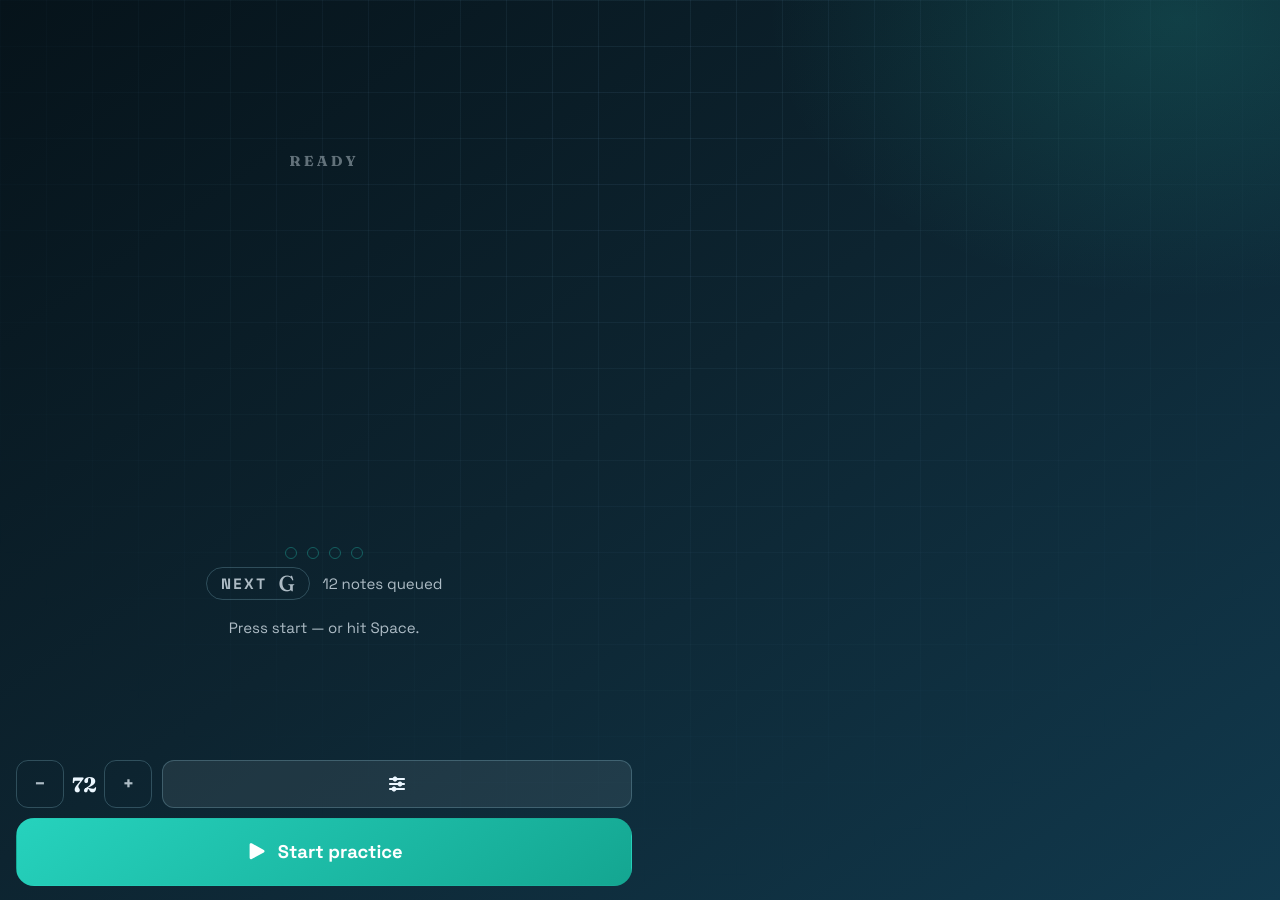
the stand reading › closes on the close button and on Escape
This screenshot has width=1280, height=900.
Click the button with test id "open-setup" at (397, 784), box [162,760,632,808]
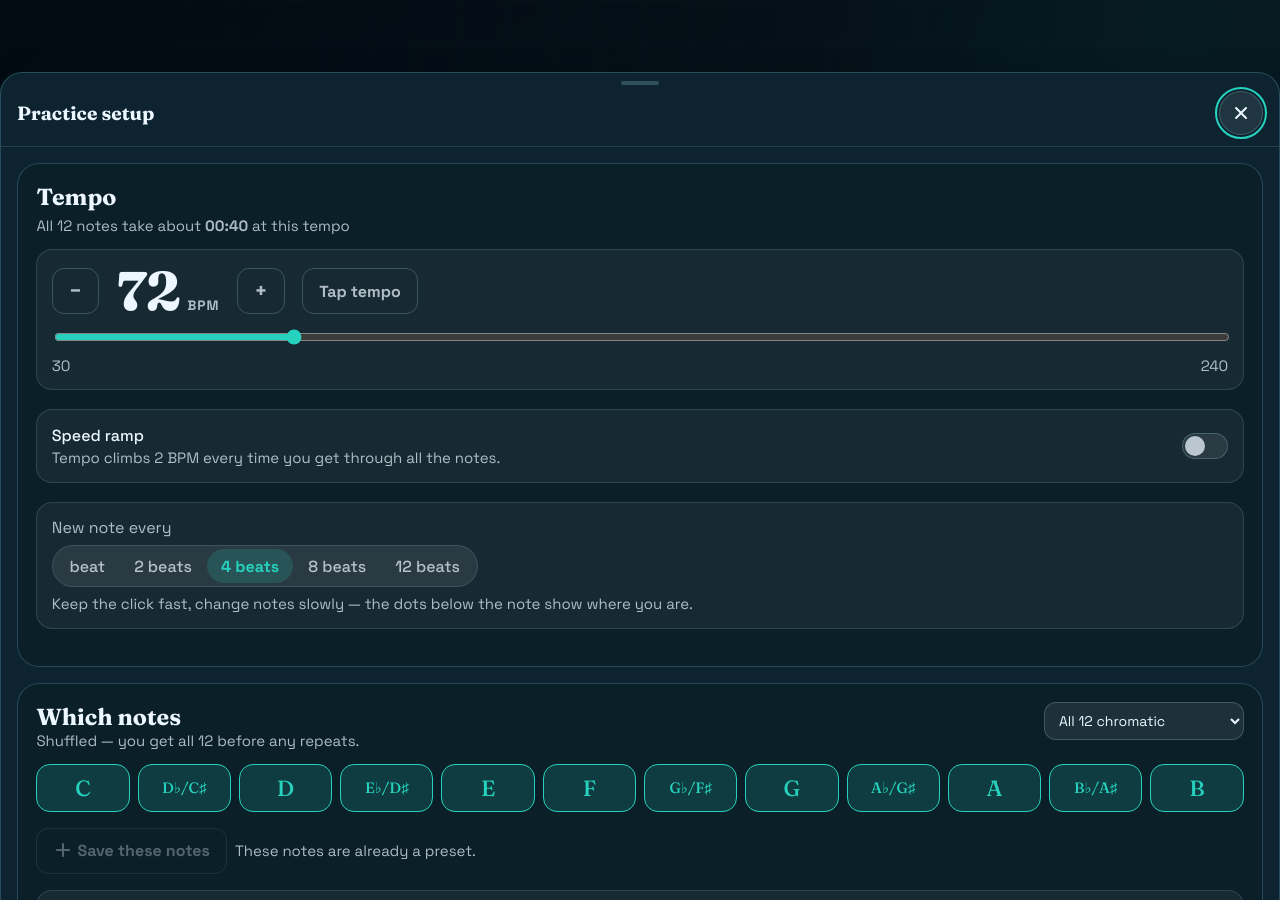
Click the button with test id "practice-sheet-close" at (1241, 113), box [1219,91,1263,135]
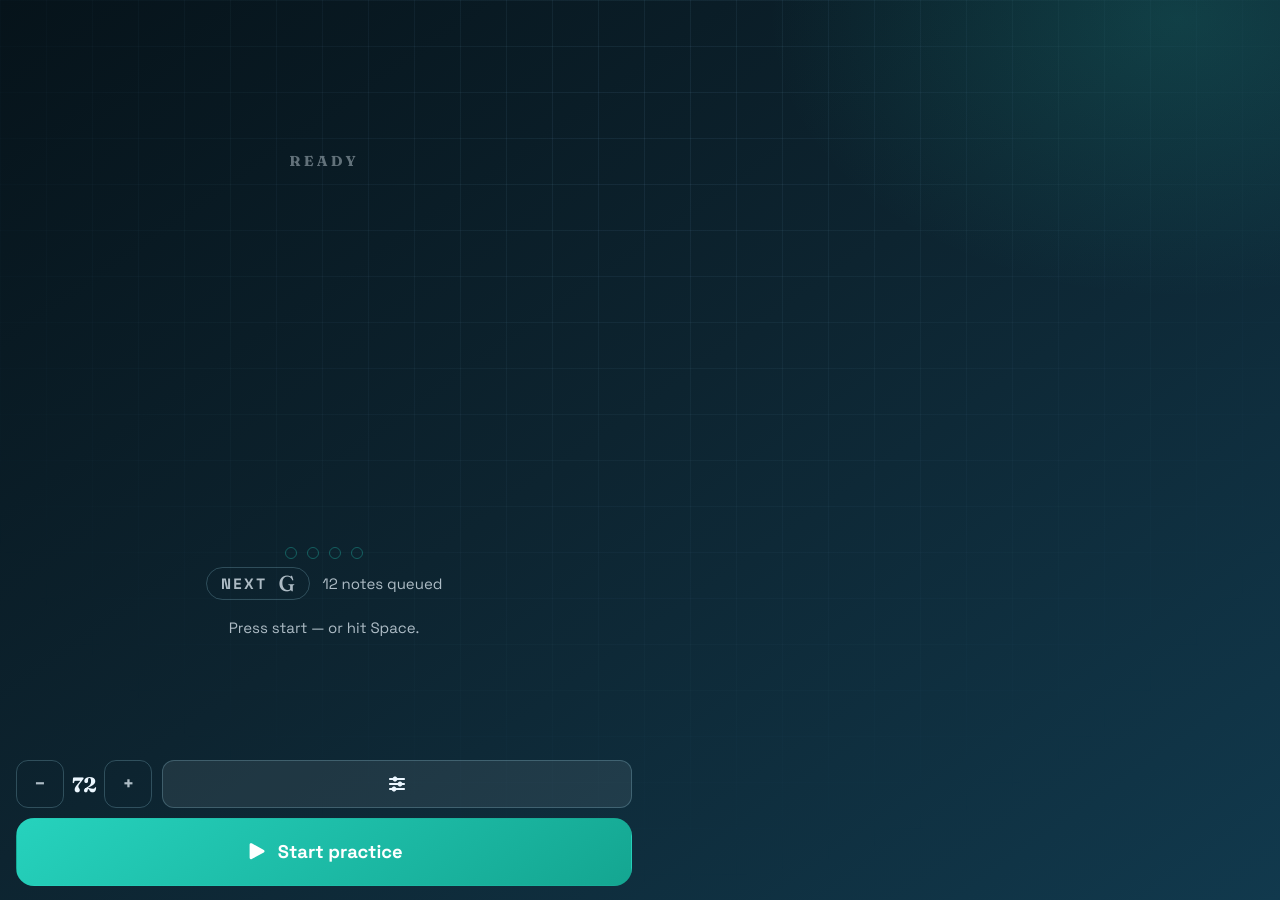
Now the element with test id "practice-sheet" is gone
Click the button with test id "open-setup" at (397, 784), box [162,760,632,808]
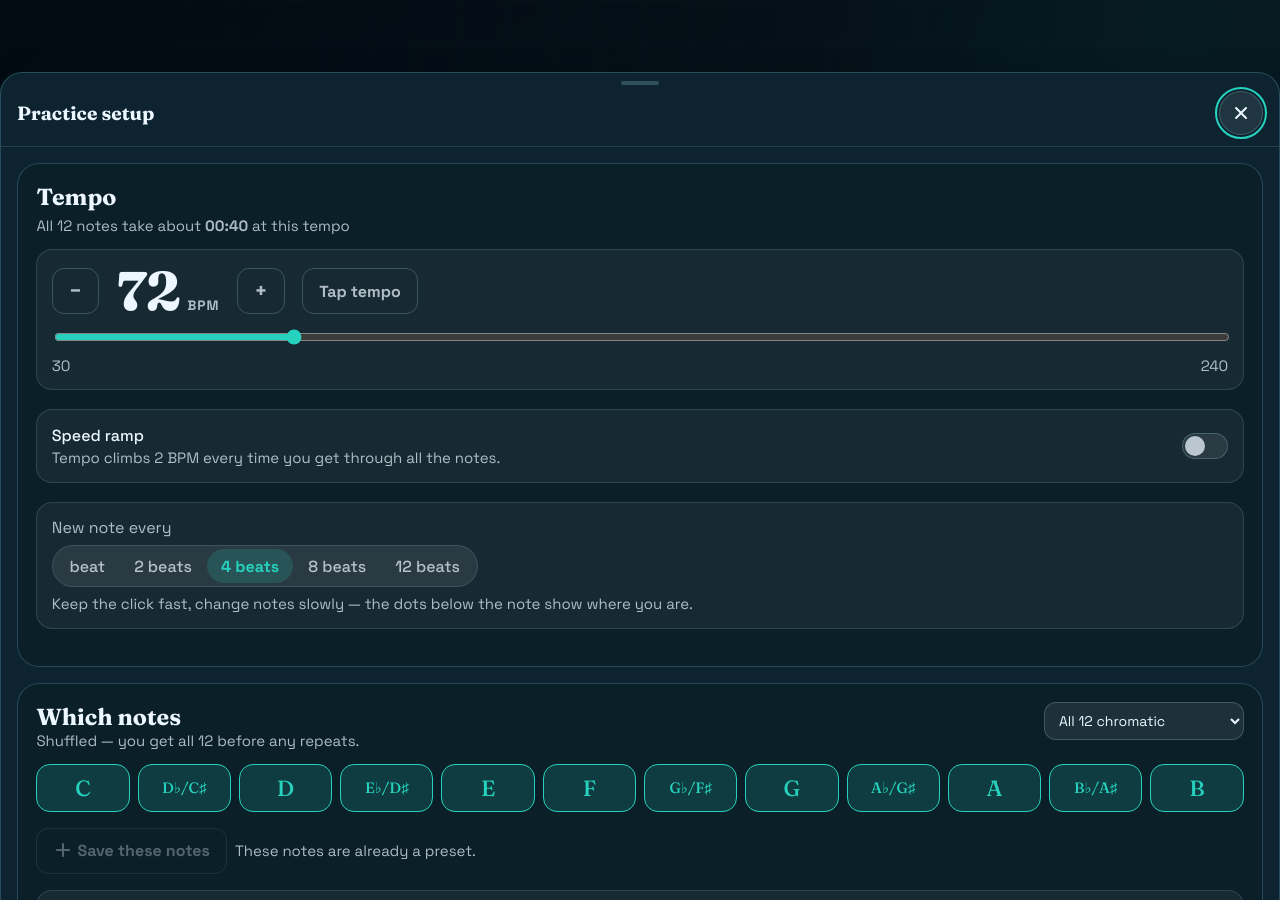
Press Escape
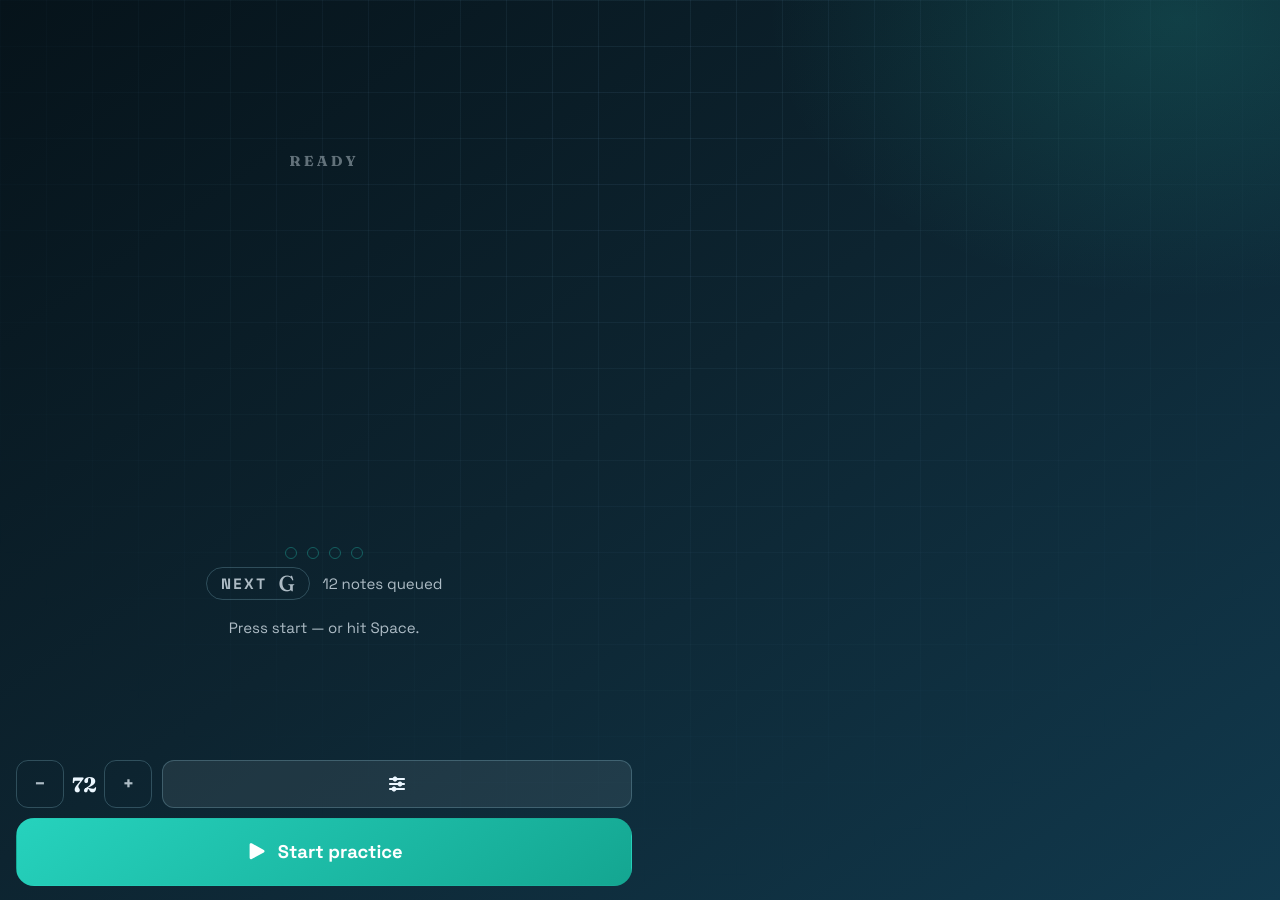
Now the element with test id "practice-sheet" is gone
